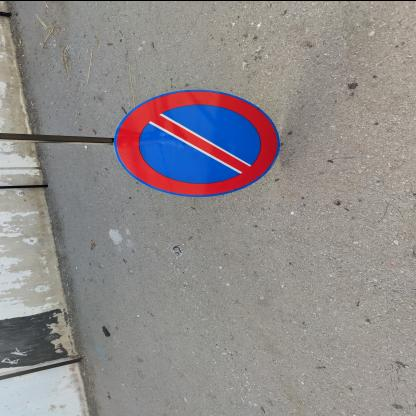No Waiting: (115, 90, 281, 196)
